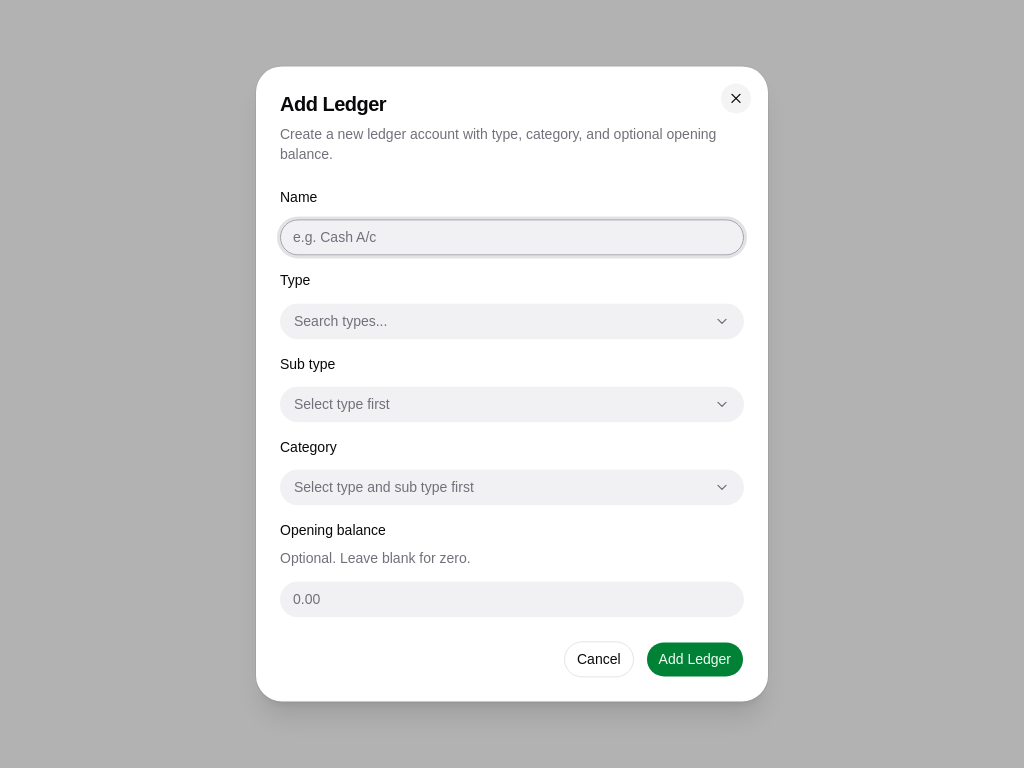
Test case: AddLedgerDialog › shows validation errors when submitting an empty form
The image size is (1024, 768).
Click the button "Add Ledger" at [695, 660], box [646,642,744,678]
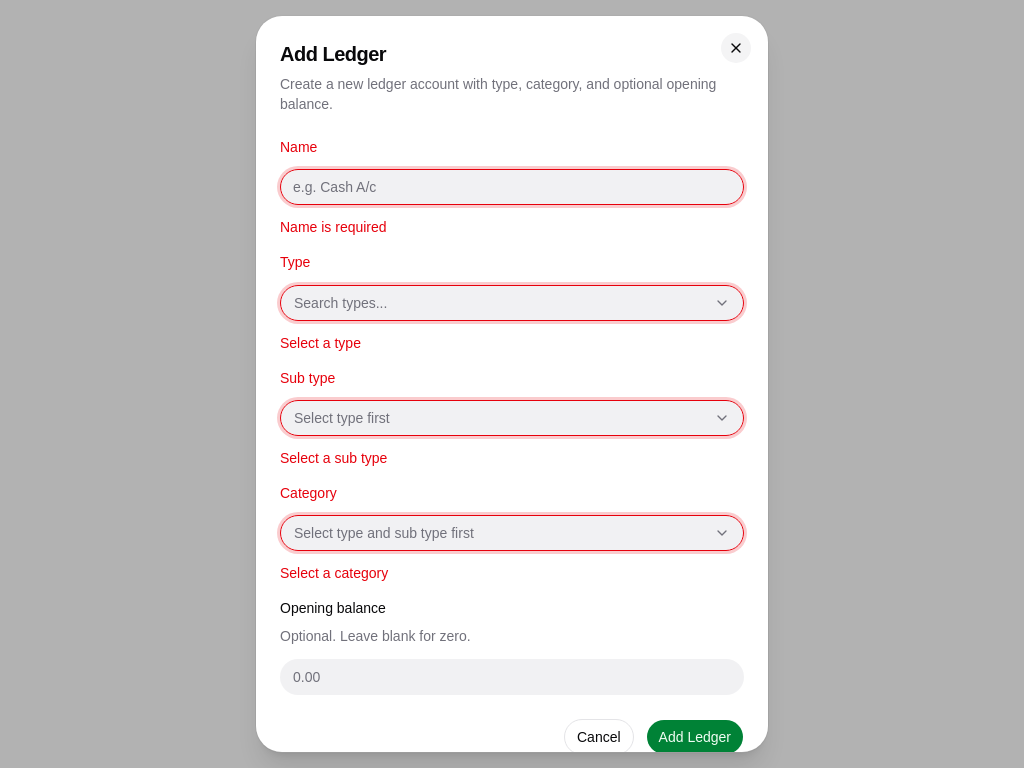
Check: the text "Name is required" is shown, box [280,219,387,235]
Check: the text "Select a type" is shown, box [280,334,361,350]
Check: the text "Select a sub type" is shown, box [280,450,387,466]
